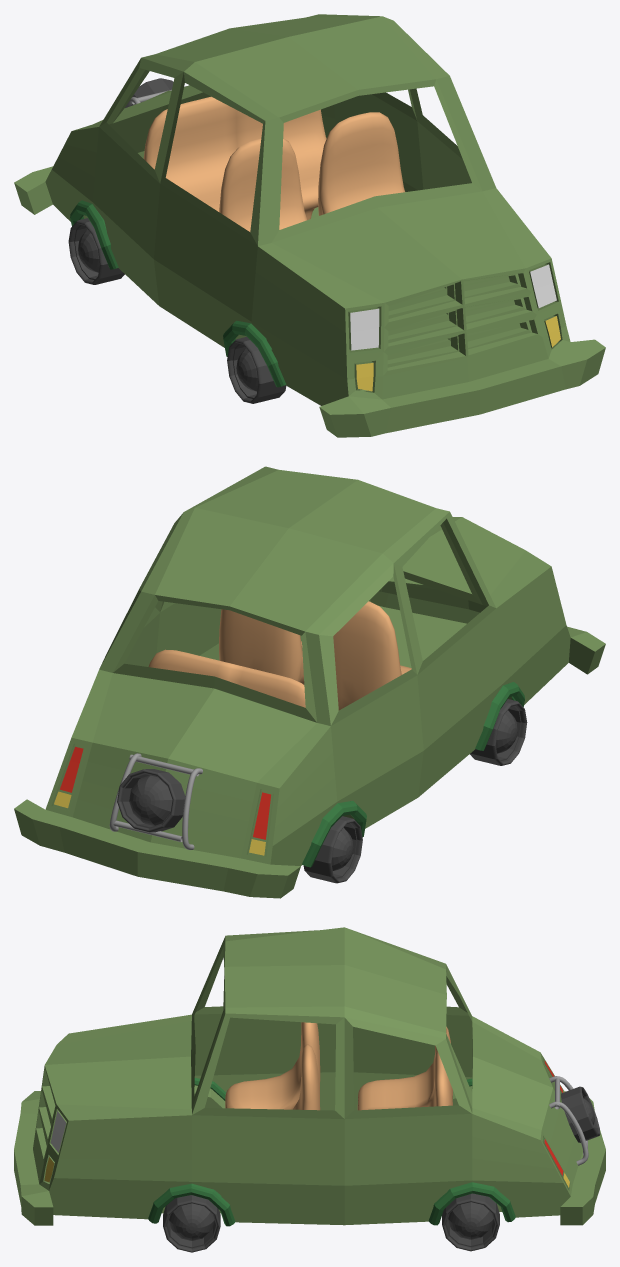
Rendered from Car.fbx.
The picture shows the model from 3 angles, top to bottom: view 1: azimuth 30°, elevation 25°; view 2: azimuth 150°, elevation 25°; view 3: azimuth 270°, elevation 25°; orthographic projection. The views are drawn at different scales.
Visible parts, largest first — view 1: Car_body, Cube, Front, Shape_01, Front.001; view 2: Car_body, Cube, Front.002, Front.001, Shape_01, Front, BézierCurve, BézierCurve.001; view 3: Car_body, Cube, Shape_01, Front, Front.001, Front.002, BézierCurve.
Boxes of the visible parts, bbox=[...] form: Car_body: bbox=[14, 14, 605, 437]; Cube: bbox=[143, 96, 404, 231]; Front: bbox=[227, 336, 286, 403]; Shape_01: bbox=[70, 200, 286, 387]; Front.001: bbox=[68, 218, 124, 284]; Car_body: bbox=[14, 466, 605, 898]; Cube: bbox=[148, 601, 411, 710]; Front.002: bbox=[117, 769, 185, 832]; Front.001: bbox=[303, 816, 362, 883]; Shape_01: bbox=[302, 682, 524, 867]; Front: bbox=[470, 699, 527, 765]; BézierCurve: bbox=[109, 753, 202, 850]; BézierCurve.001: bbox=[113, 754, 198, 842]; Car_body: bbox=[14, 927, 605, 1225]; Cube: bbox=[225, 1022, 452, 1110]; Shape_01: bbox=[148, 1078, 515, 1226]; Front: bbox=[163, 1195, 220, 1252]; Front.001: bbox=[442, 1193, 499, 1251]; Front.002: bbox=[561, 1086, 600, 1142]; BézierCurve: bbox=[549, 1076, 588, 1165].
Size of the model in its own units: 215 by 199 by 461.
